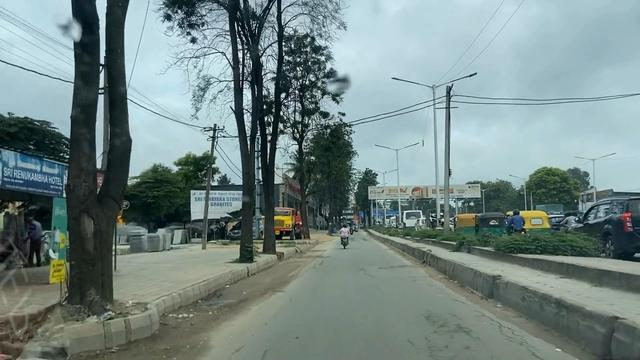RoadDamages: (398, 303, 528, 360)
